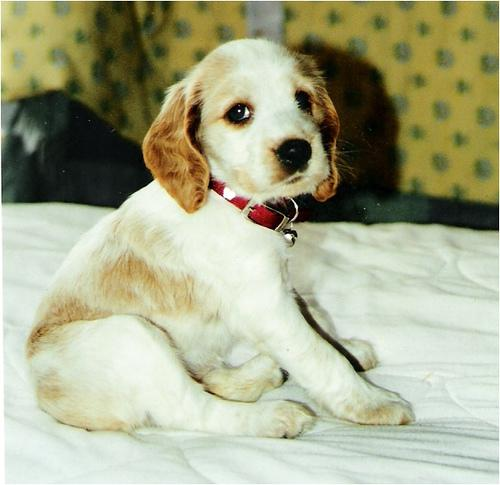dog-english_cocker_spaniel: (141, 36, 338, 210)
